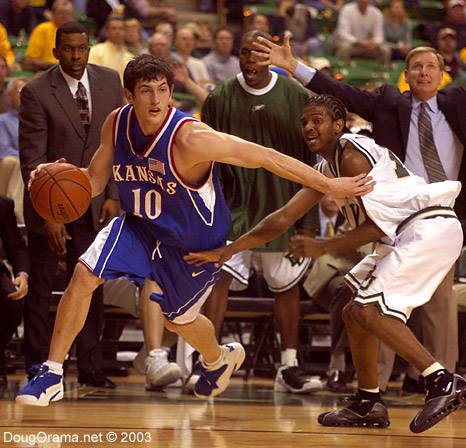basketball: (29, 164, 91, 222)
